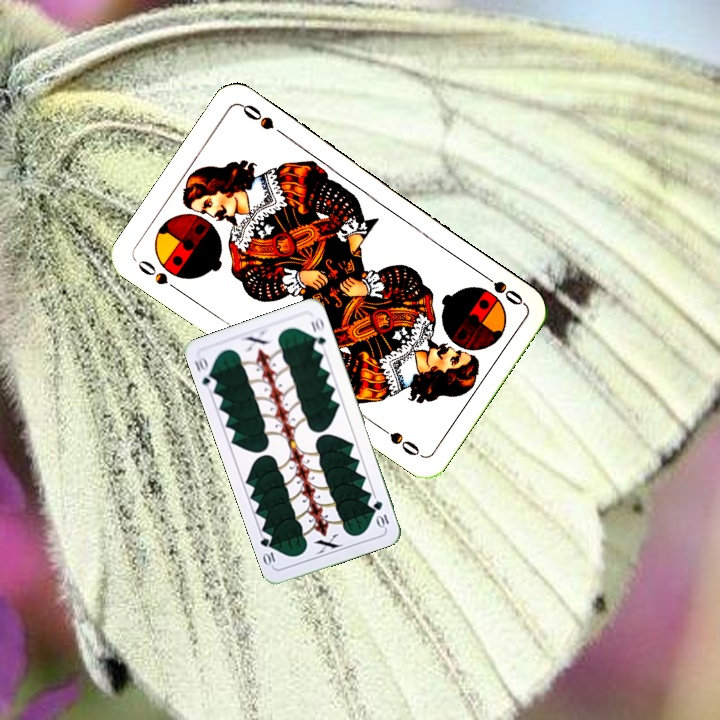G10: (190, 352, 219, 391), (369, 497, 392, 530)
SO: (475, 267, 526, 309), (133, 255, 184, 295)
